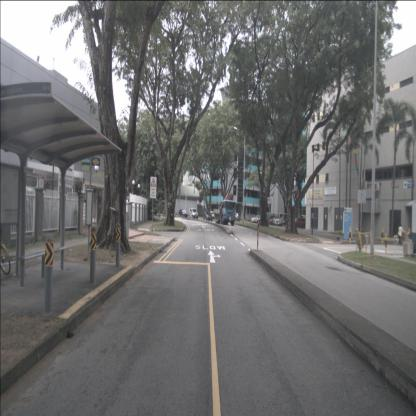human-pedestrian-adult: (397, 223, 404, 246)
vehicle-bicycle: (1, 226, 12, 278)
vehicle-car: (293, 218, 307, 228), (253, 214, 267, 224), (250, 214, 264, 223), (203, 210, 213, 222), (188, 208, 198, 219), (231, 212, 240, 222), (269, 213, 276, 225), (179, 209, 187, 218)
vehicle-truck: (213, 199, 236, 226), (276, 213, 291, 226)
